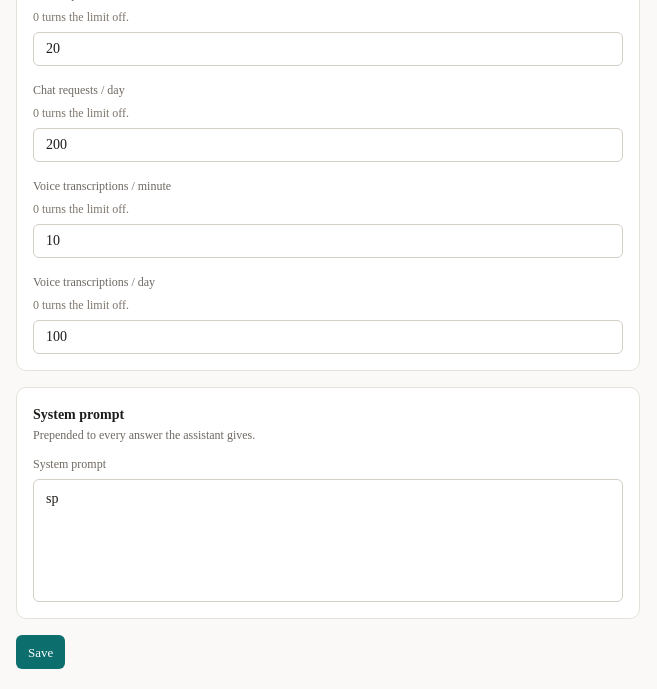
Test: AnsweringForm › surfaces a rejected save instead of looking like nothing happened
(page scrolled)
Click the button "Save": click(41, 652) [16,635,65,669]
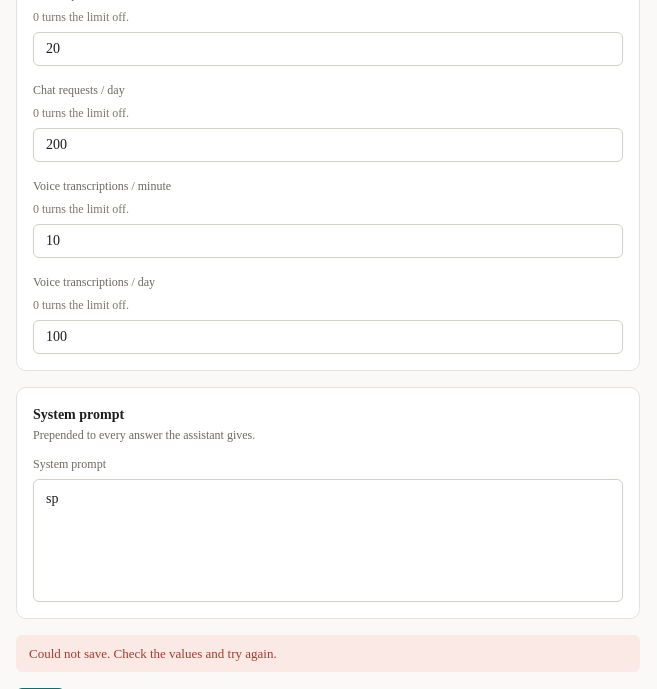
Check: the message shows "Could not save", box [29,646,277,661]
